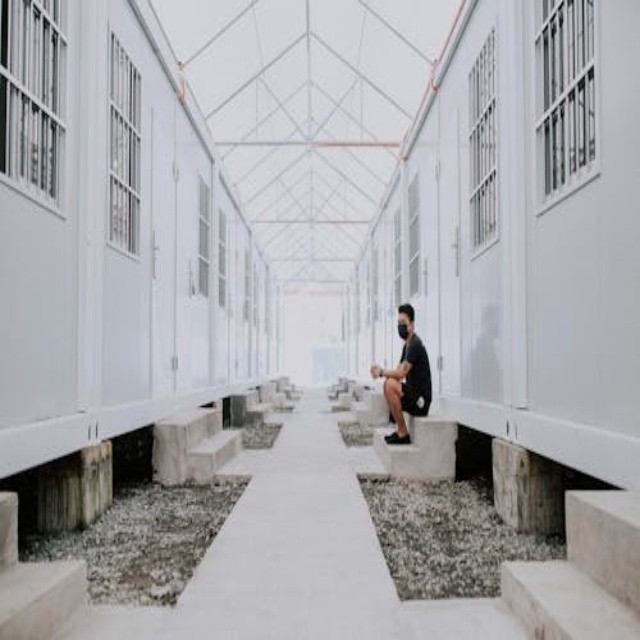Mascara: (397, 323, 409, 339)
Sin_guantes: (370, 364, 379, 376)
